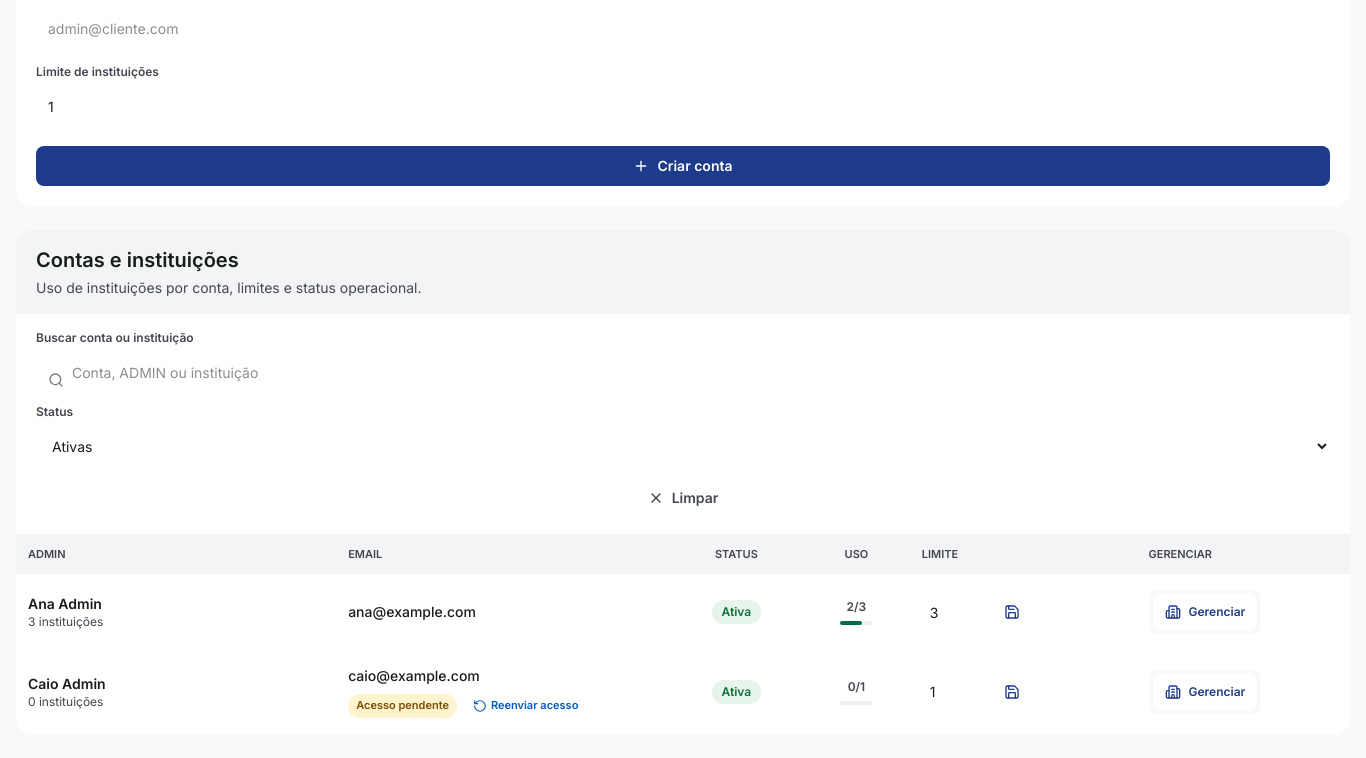
Test: PlatformPage › mostra mensagem quando a conta nao possui escolas cadastradas
The width and height of the screenshot is (1366, 758).
(page scrolled)
What coordinates should you click on to do the following:
click the button with aria-label "Gerenciar escolas e ações de Conta Gama"
I would click on:
 (1205, 692)
Its box is [1152,674,1257,710].
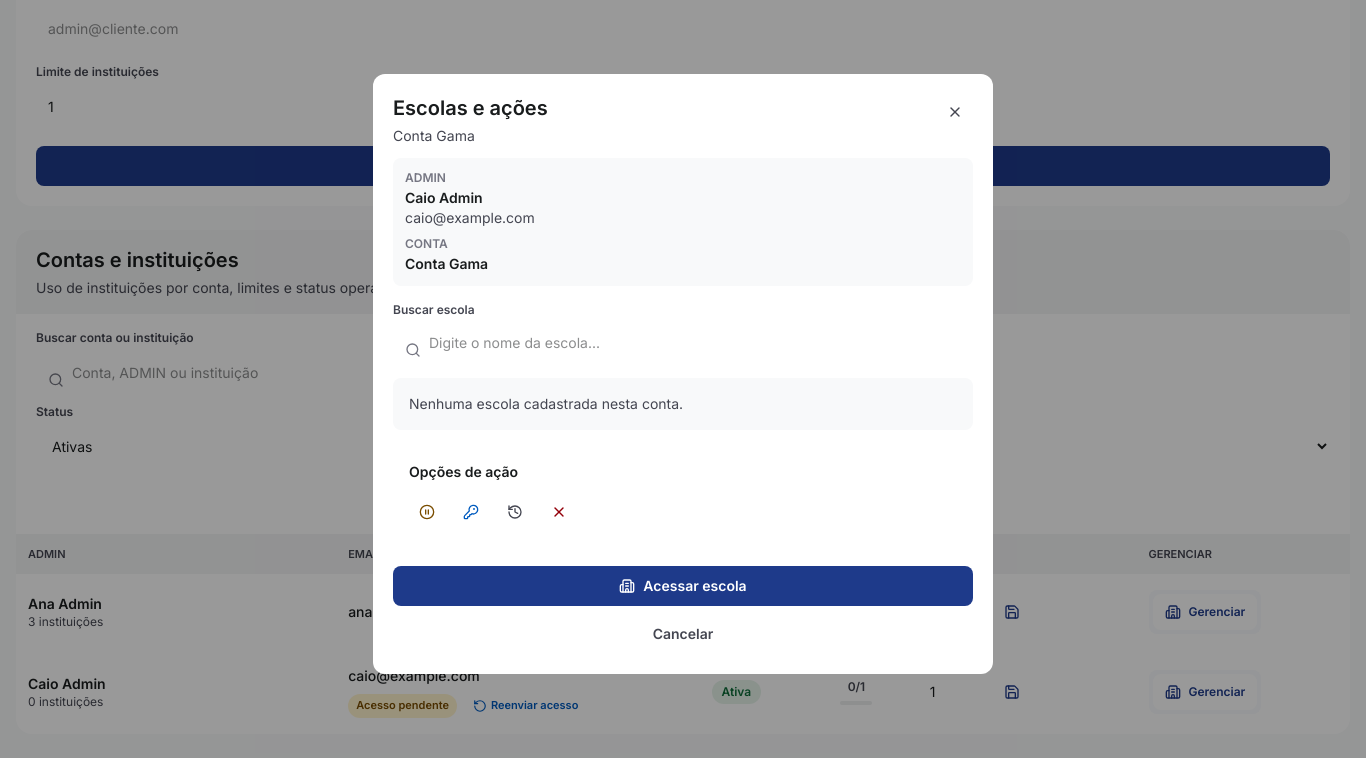
Expected: the message shows "Nenhuma escola cadastrada nesta conta", [409,395,683,412]
